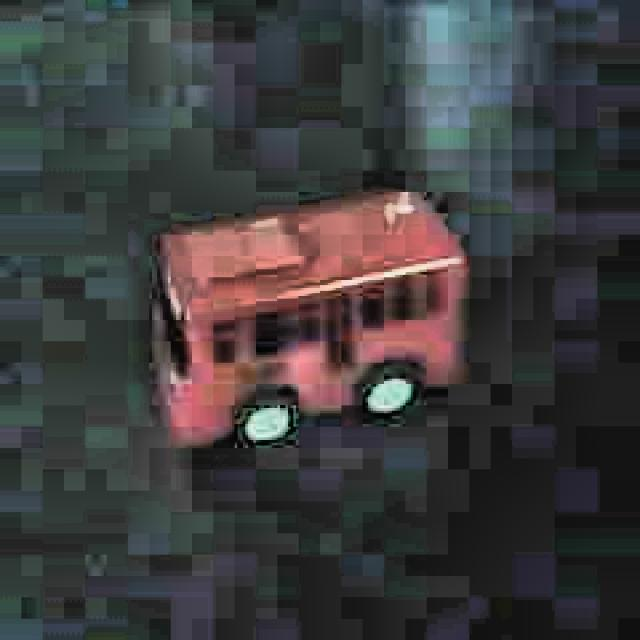bus: (147, 179, 475, 472)
